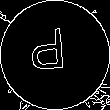P_S: (35, 28, 75, 82)
